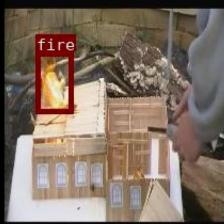fire: (35, 51, 72, 112)
